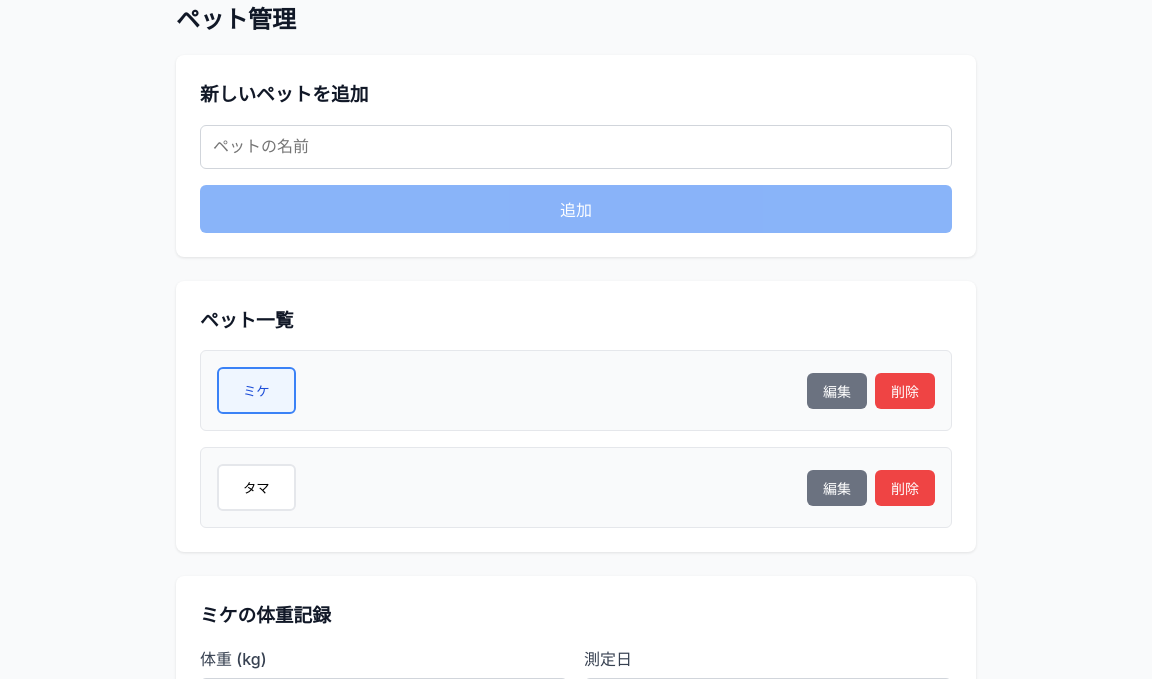
Test: PetManagement › Pet Registration Form › should successfully add a new pet
The image size is (1152, 679).
Step 1. Type "シロ" into the field with placeholder "ペットの名前" → (576, 147), box [200,125,952,169]
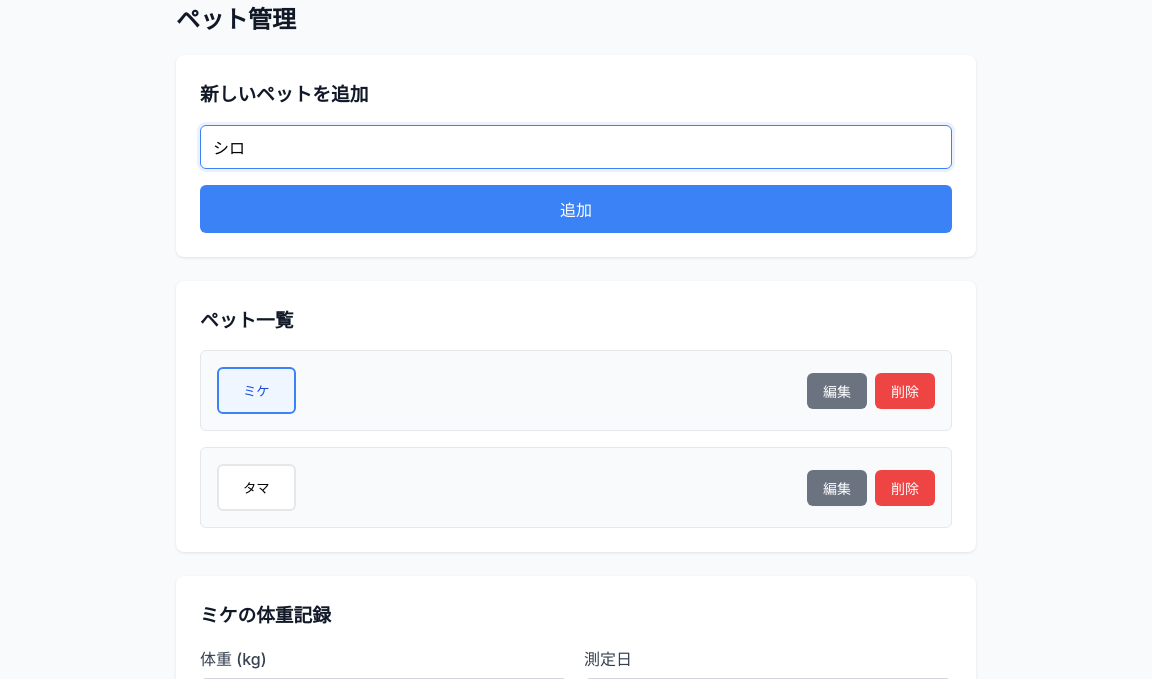
Step 2. Click the button "追加" → (576, 209), box [200,185,952,233]
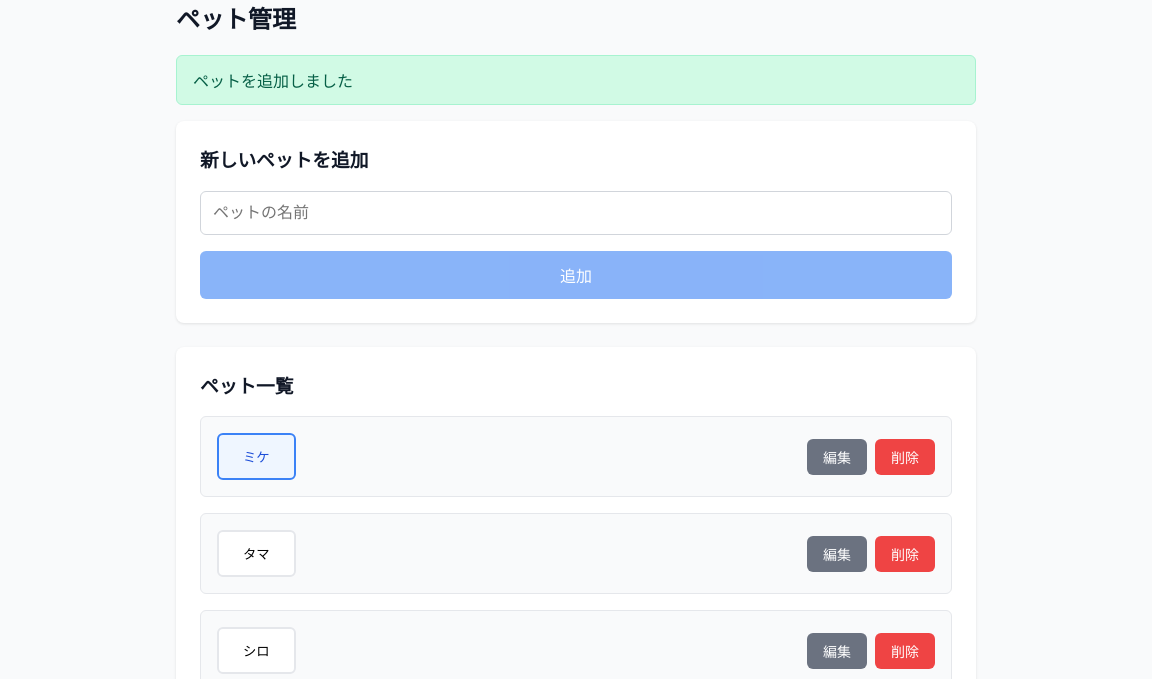
Result: the text "ペットを追加しました" is shown at [176,55,976,105]
